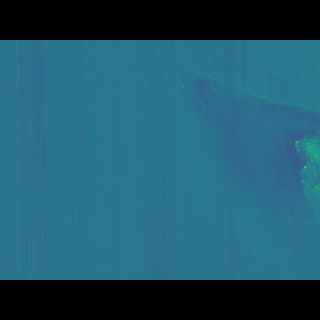Loch: (267, 135, 319, 198)
